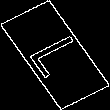L_NE: (20, 29, 90, 81)
